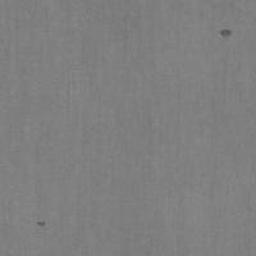Inclusion: (220, 29, 232, 38)
